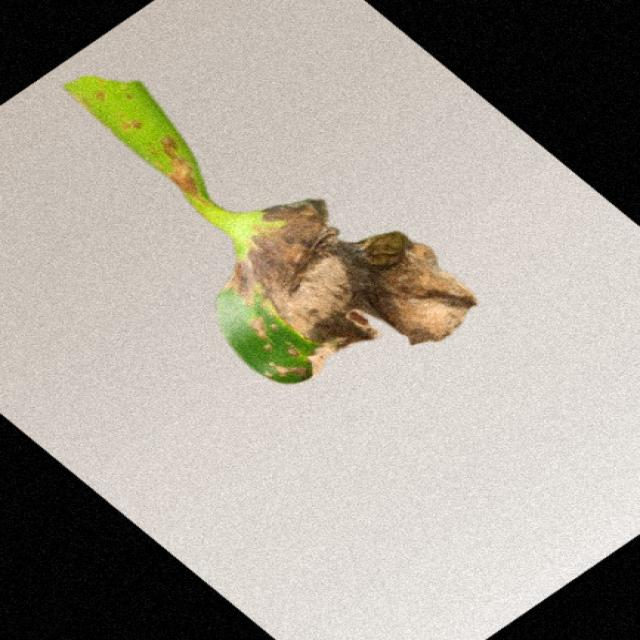daun berpenyakit karat: (65, 76, 476, 383)
